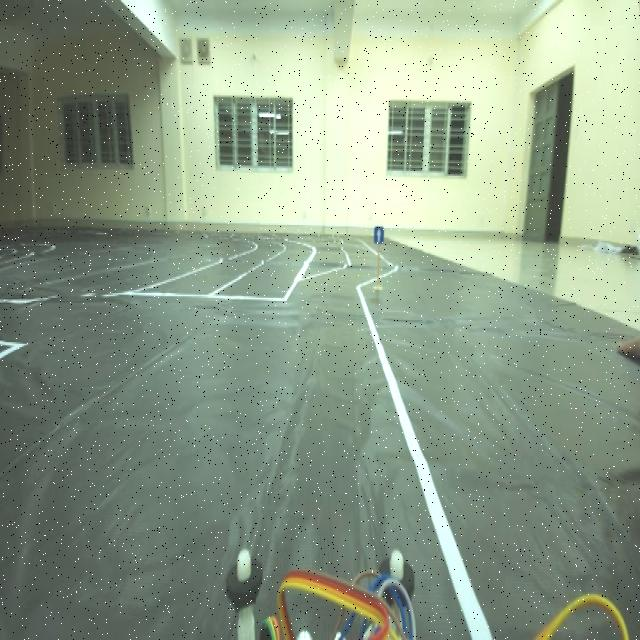onewayroad: (372, 217, 385, 249)
